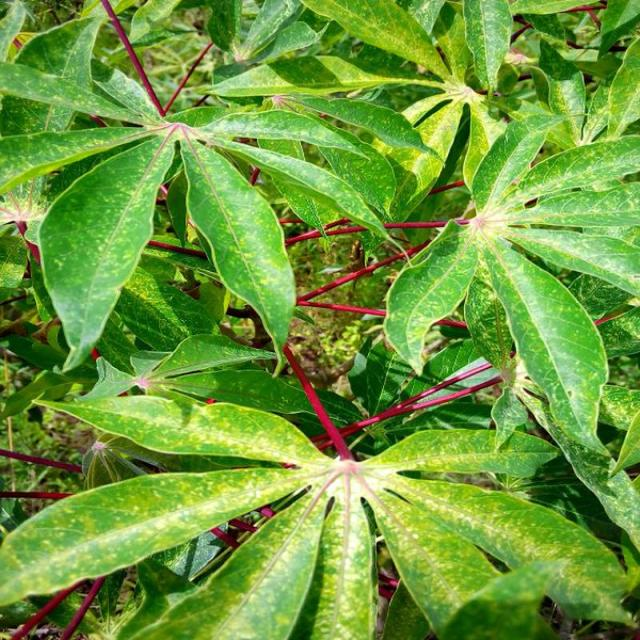cassava leaf: (2, 1, 639, 637), (36, 126, 178, 372), (180, 134, 298, 376)
